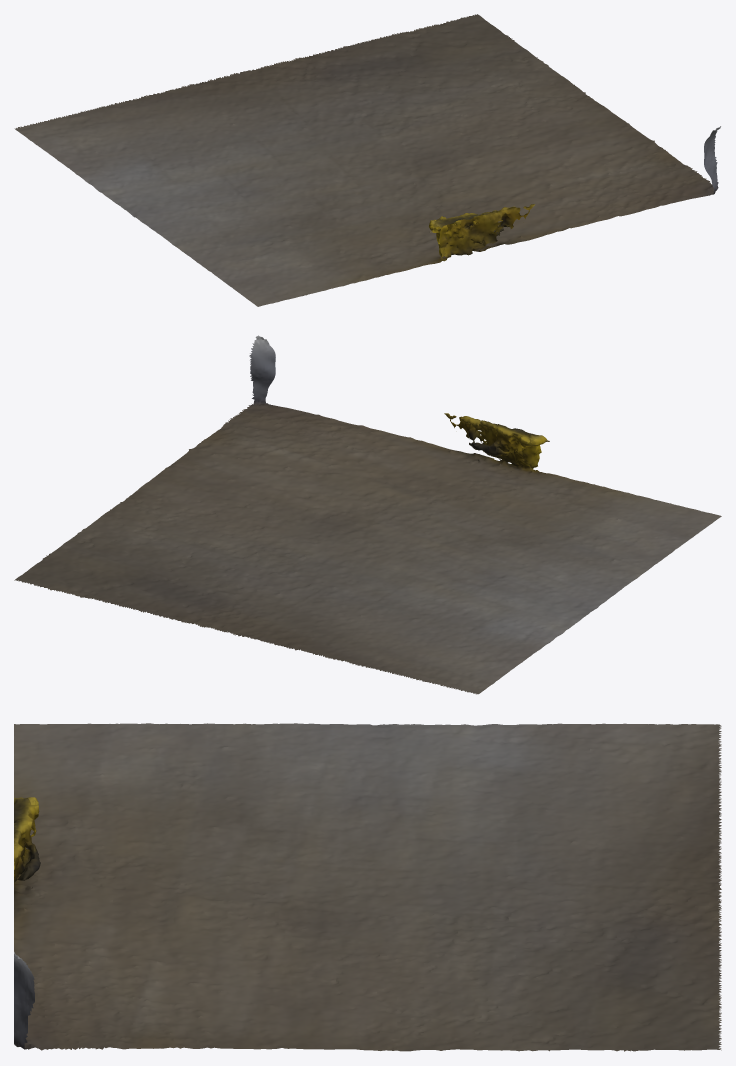
Rendered from fine.glb.
3 views of the same model, one above another, from view 1: azimuth 30°, elevation 25°; view 2: azimuth 150°, elevation 25°; view 3: azimuth 270°, elevation 25° (orthographic). The views are drawn at different scales.
Size of the model in its own units: 2.04 by 0.2867 by 1.85.
